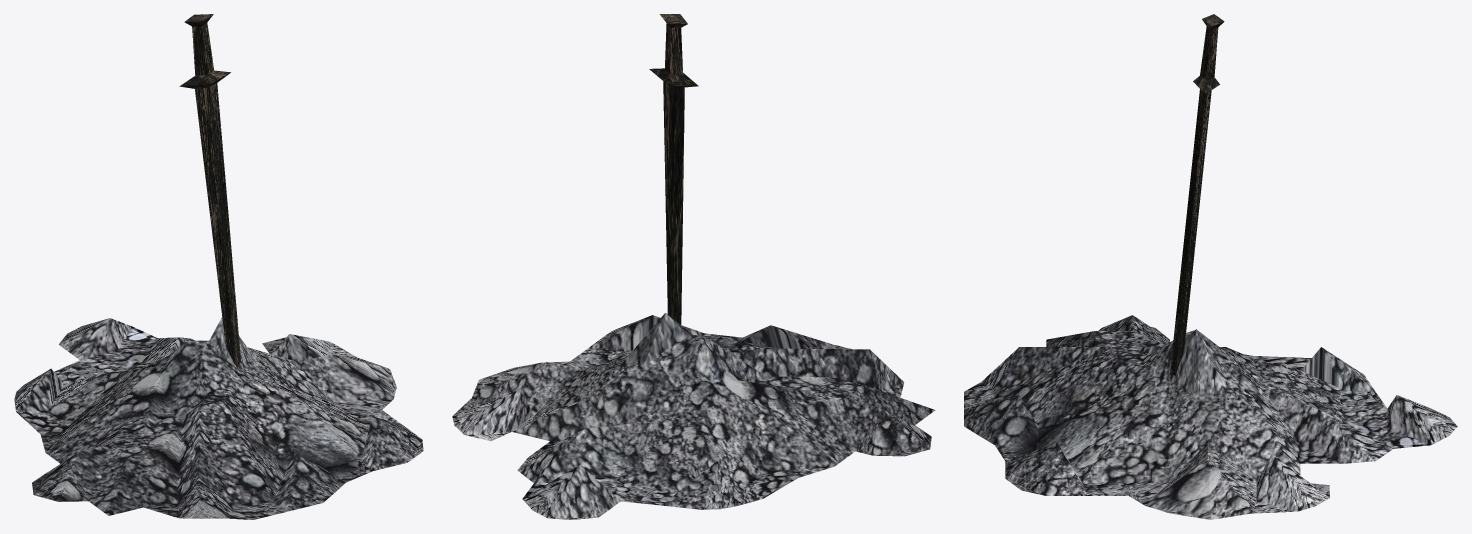
File: firebone.fbx
3 renders of one model, left to right at view 1: azimuth 30°, elevation 25°; view 2: azimuth 150°, elevation 25°; view 3: azimuth 270°, elevation 25°, orthographic. The views are drawn at different scales.
Visible parts, largest first — view 1: Firebone; view 2: Firebone; view 3: Firebone.
Part boxes in pixels (box(x1,y1,x2,y2)): Firebone: box(14, 14, 423, 519); Firebone: box(452, 14, 935, 519); Firebone: box(964, 14, 1457, 519).
Bounding box in the file's own units: 119 × 114 × 126.
